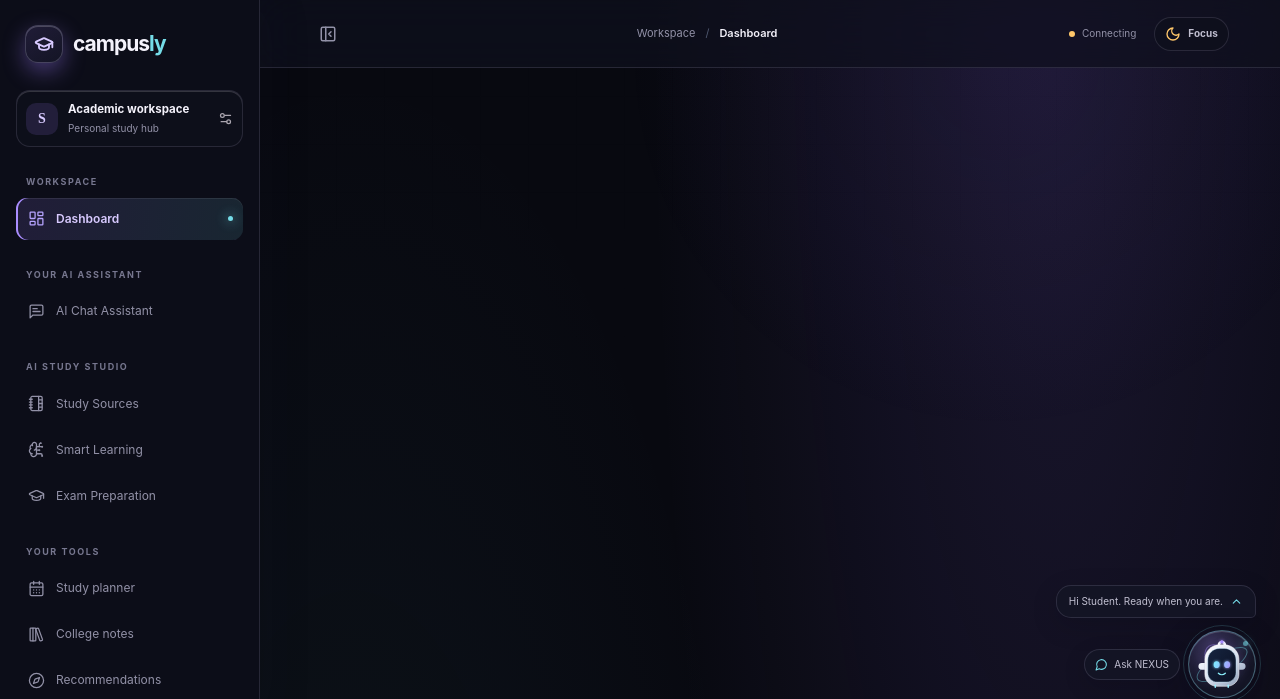
Test: application navigation and dashboard › routes sidebar items to the implemented notes module
The image size is (1280, 699).
Click the link "Study planner" at {"x": 81, "y": 588}, box [28,580,135,597]
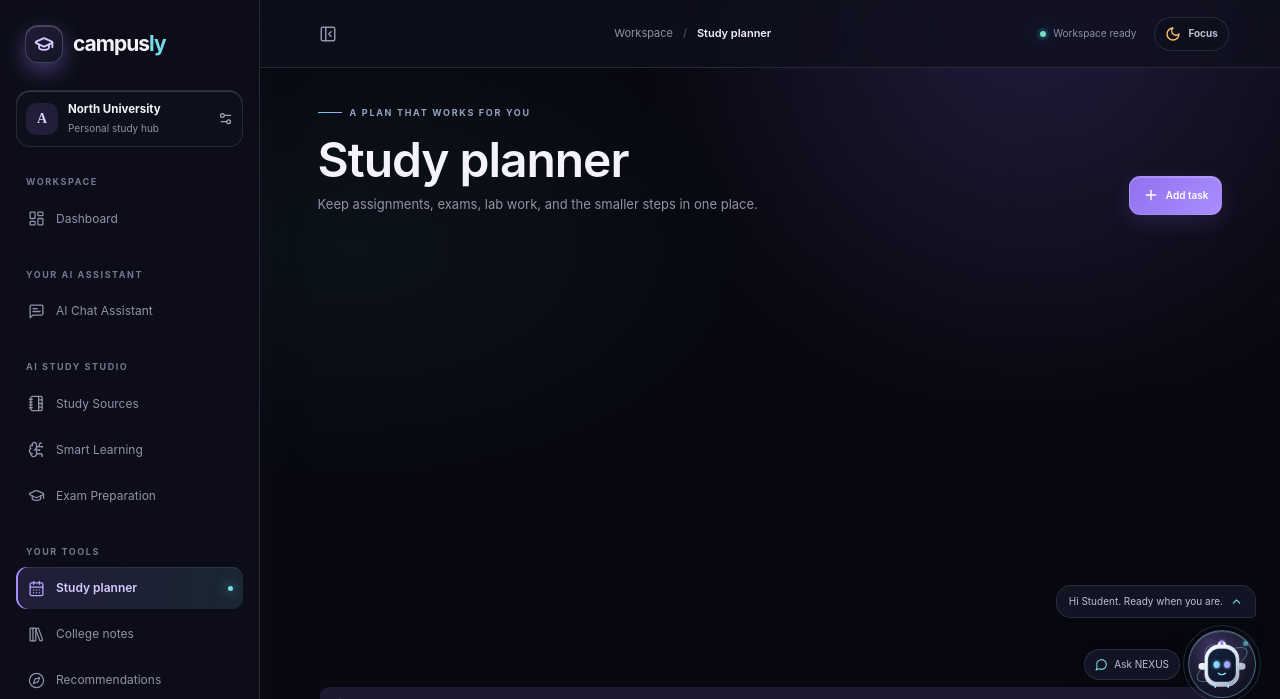
Click the link "College notes" at {"x": 81, "y": 634}, box [28,626,134,643]
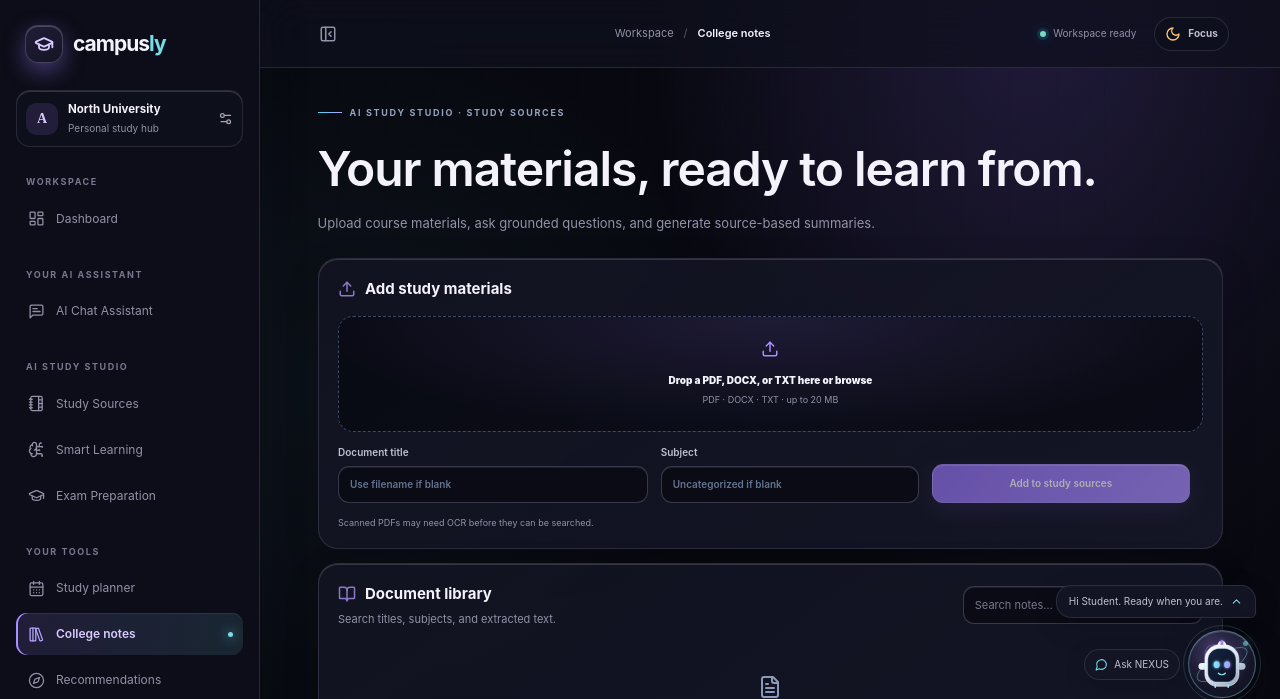
expect the heading "Your materials, ready to learn from." is shown: met, box [318,132,1222,204]
expect the heading "Document library" is shown: met, box [338,584,491,603]
